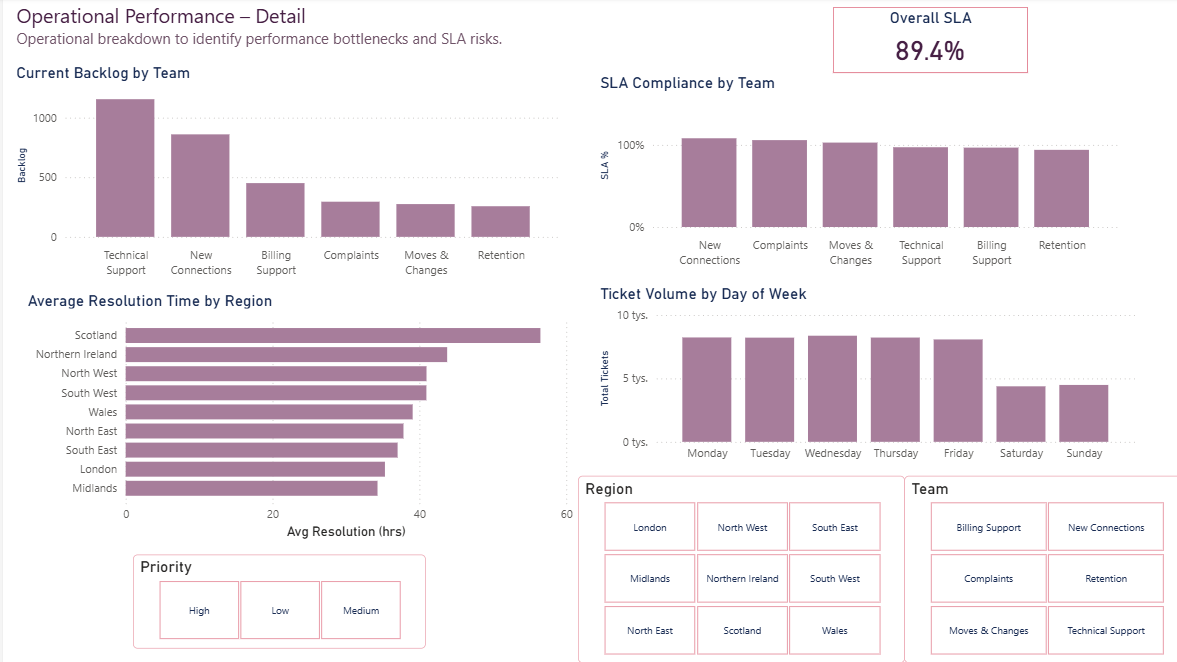

Layout of this report page (visuals, bound fields, positions):
{"tool":"powerbi","page":{"name":"Operational Detail","canvas":[1280,720],"ordinal":1},"visuals":[{"type":"textbox","box":[10,0,585.7,71.4],"z":0},{"type":"columnChart","title":"Current Backlog by Team","fields":{"Category":["tickets_2025.team"],"Y":["teams.Backlog"]},"box":[10,71.4,598.6,238.6],"z":1},{"type":"columnChart","title":"SLA Compliance by Team","fields":{"Category":["tickets_2025.team"],"Y":["teams.SLA %"]},"box":[640,82.9,570,217.1],"z":2},{"type":"barChart","title":"Average Resolution Time by Region","fields":{"Category":["tickets_2025.region"],"Y":["teams.Avg Resolution (hrs)"]},"box":[21.4,317.1,598.6,272.9],"z":3},{"type":"columnChart","title":"Ticket Volume by Day of Week","fields":{"Y":["teams.Total Tickets"],"Category":["DayOfWeek.DayOfWeekName"]},"box":[640,310,587.1,200],"z":4},{"type":"slicer","title":"Team","fields":{"Values":["tickets_2025.team"]},"box":[972.9,517.1,307.1,202.9],"z":5},{"type":"slicer","title":"Region","fields":{"Values":["tickets_2025.region"]},"box":[620,517.1,352.9,202.9],"z":6},{"type":"slicer","title":"Priority","fields":{"Values":["tickets_2025.priority"]},"box":[140,601.4,315.7,101.4],"z":7},{"type":"card","title":"Overall SLA","fields":{"Values":["teams.SLA %"]},"box":[895.7,11.4,210,71.4],"z":8}]}

Visuals, with their boxes in screenshot pixels (x1, y1, x2, y2), scaled from the page's 1280x720 canvas onto the 1177x662 screenshot:
textbox: bbox=[9, 0, 548, 66]
"Current Backlog by Team" columnChart: bbox=[9, 66, 560, 285]
"SLA Compliance by Team" columnChart: bbox=[588, 76, 1113, 276]
"Average Resolution Time by Region" barChart: bbox=[20, 292, 570, 542]
"Ticket Volume by Day of Week" columnChart: bbox=[588, 285, 1128, 469]
"Team" slicer: bbox=[895, 475, 1176, 661]
"Region" slicer: bbox=[570, 475, 895, 661]
"Priority" slicer: bbox=[129, 553, 419, 646]
"Overall SLA" card: bbox=[824, 10, 1017, 76]
